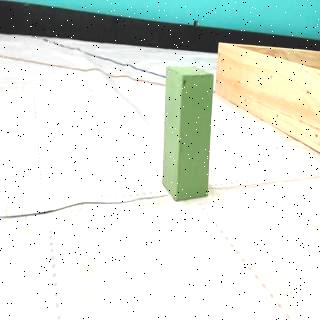greenbox: (162, 62, 214, 204)
